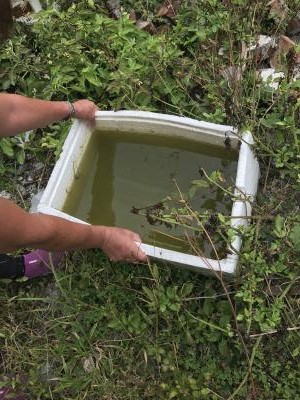styrofoam: (34, 109, 264, 284)
